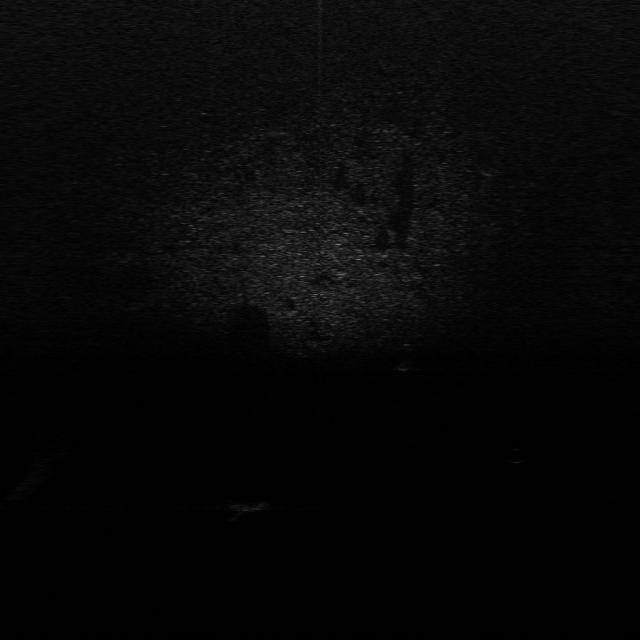ball: (500, 447, 530, 465)
square cage: (228, 494, 278, 515)
tyre: (392, 339, 418, 375)
